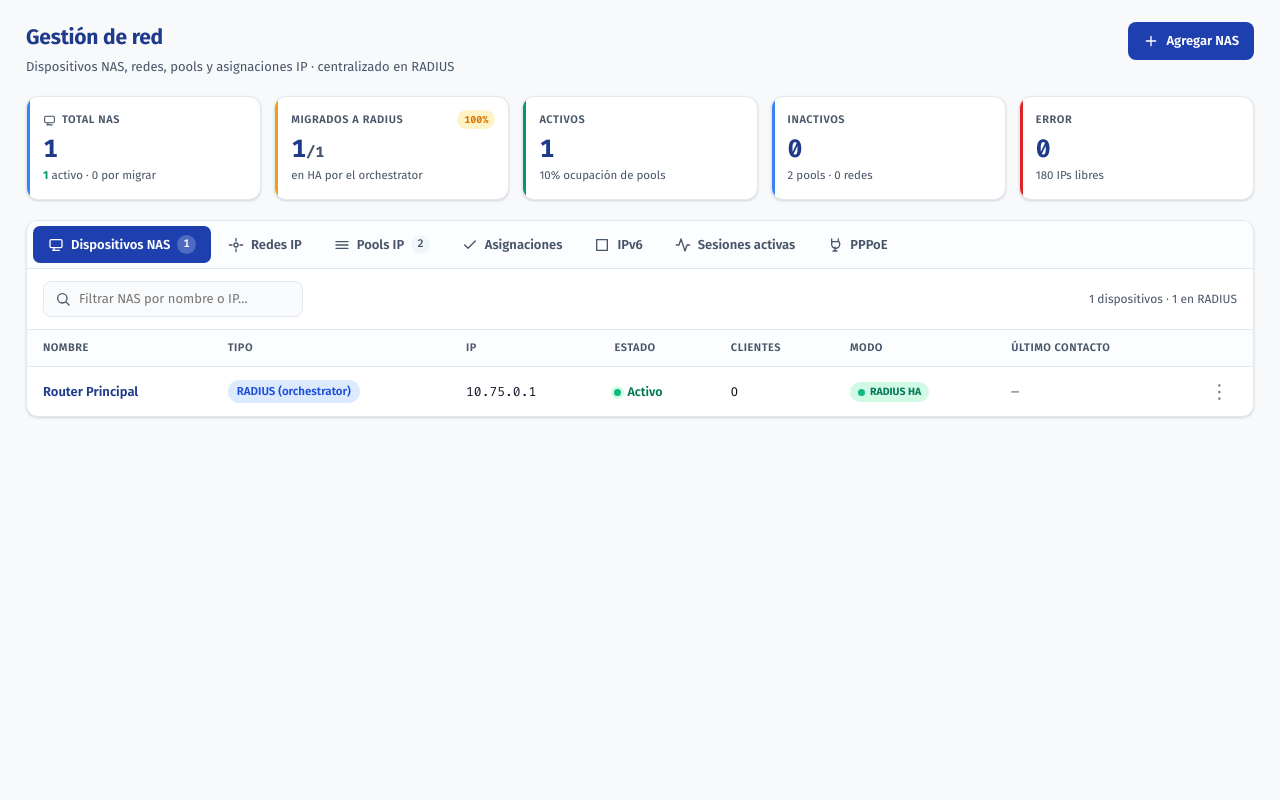
GestionRedPage — Tab Pools IP › P-1: filtros FE › filtro por tipo muestra solo pools del tipo seleccionado
The width and height of the screenshot is (1280, 800).
Click the button "Pools IP 2" at x=382, y=245, box [319,226,445,263]
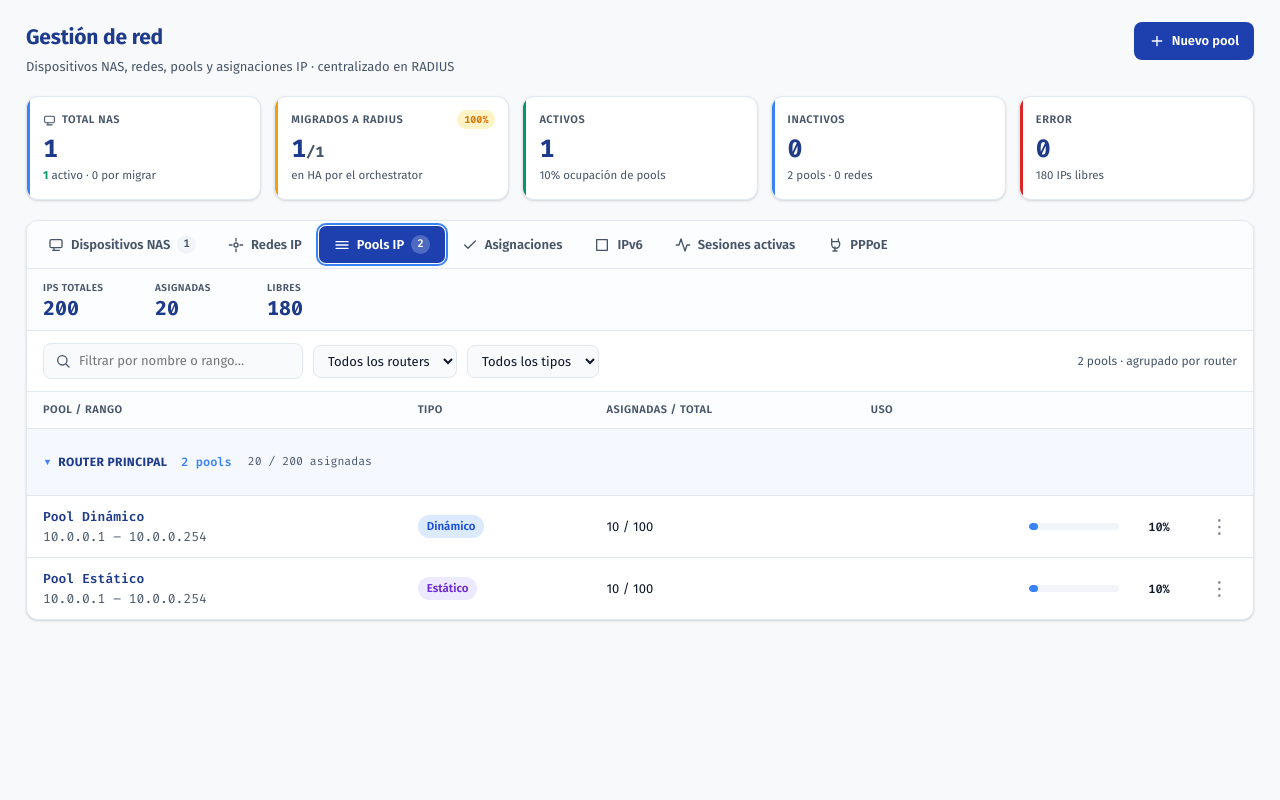
Select "Dinámico" in the dropdown named "Filtrar por tipo" at x=533, y=361, box [467,344,599,378]
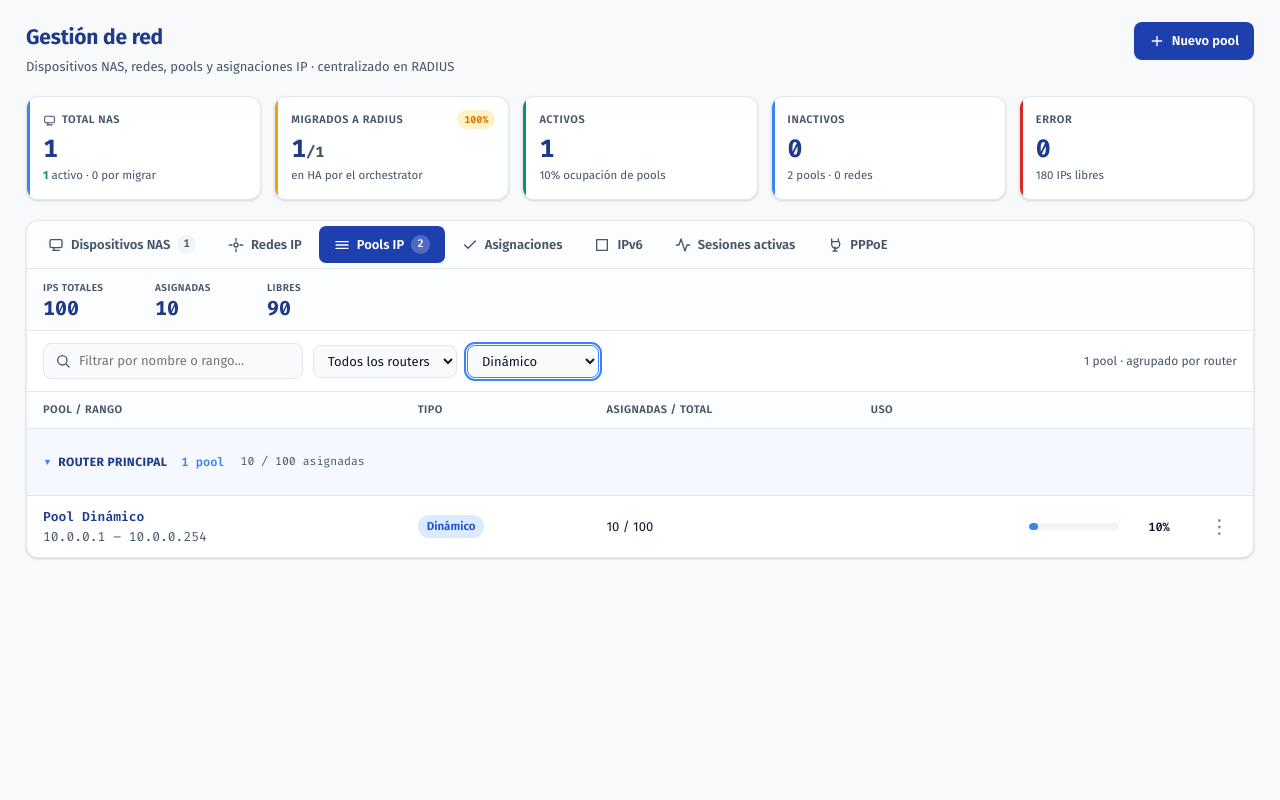
Check: the text "Pool Dinámico" is shown, box [43,508,144,525]
Check: the text "Pool Estático" is gone
